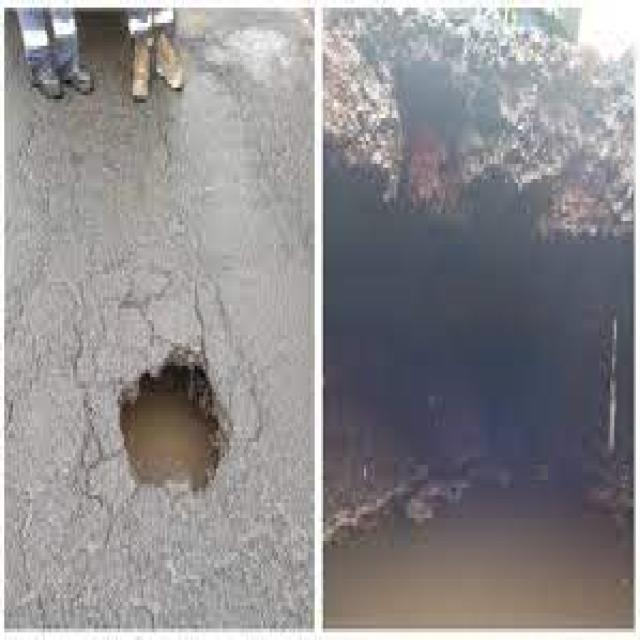Pothole: (120, 370, 229, 488)
